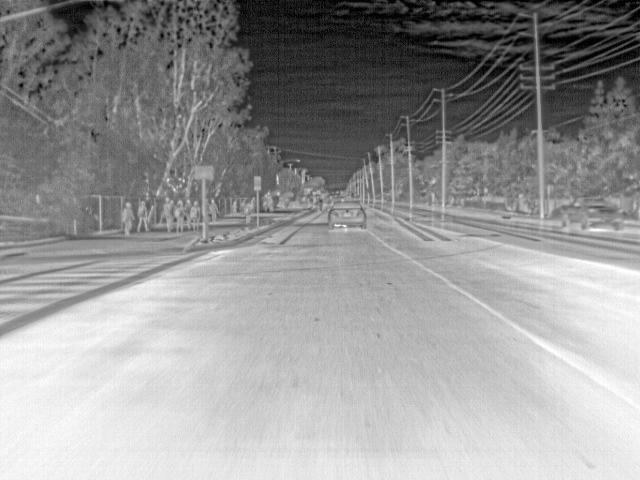car: (558, 193, 629, 230), (326, 200, 368, 230)
person: (162, 196, 175, 233), (122, 201, 134, 235), (175, 198, 187, 232), (136, 200, 149, 230), (188, 198, 200, 230), (243, 198, 255, 225), (208, 198, 220, 223), (230, 198, 242, 214), (267, 198, 274, 209)
